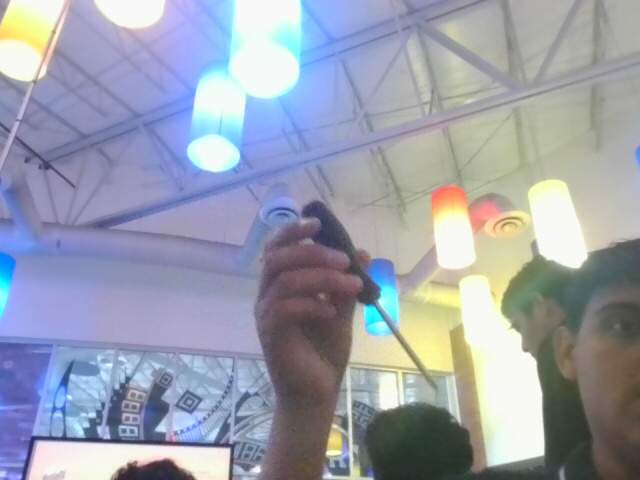destornillador: (305, 201, 438, 389)
